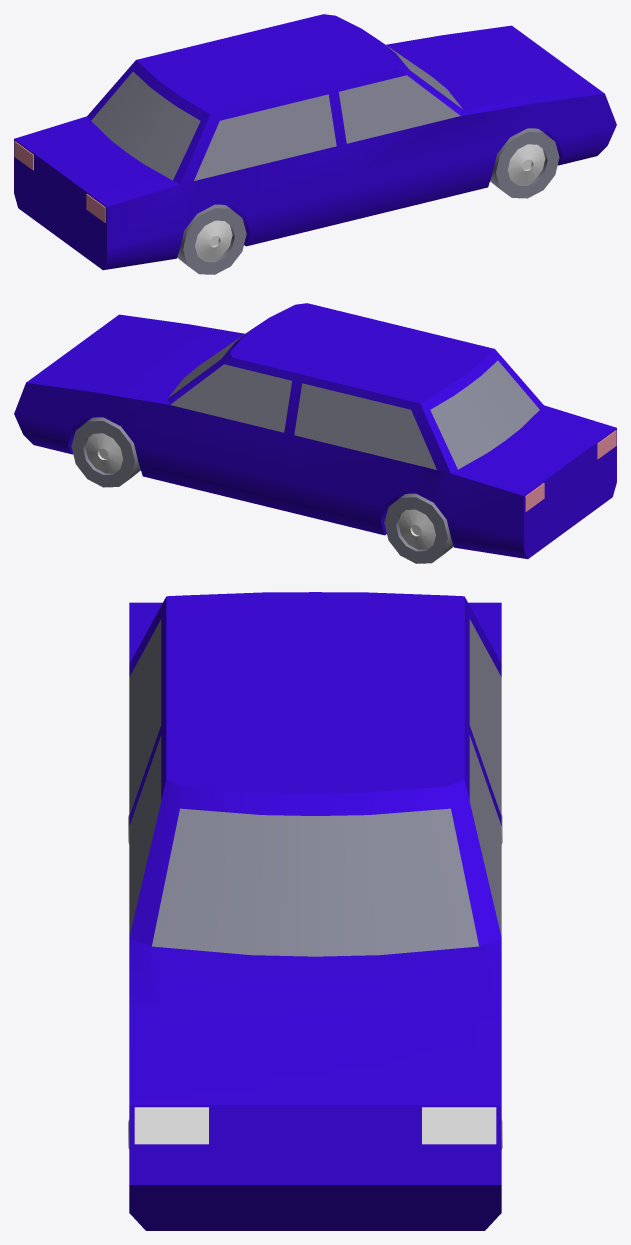
The model's file is LimoBlue.gltf.
3 renders of one model, top to bottom at view 1: azimuth 30°, elevation 25°; view 2: azimuth 150°, elevation 25°; view 3: azimuth 270°, elevation 25°, orthographic. The views are drawn at different scales.
Visible parts, largest first — view 1: Cabin, Windows/Wheels, Wheels, Disk, Red lights; view 2: Cabin, Windows/Wheels, Wheels, Disk, Red lights; view 3: Cabin, Windows/Wheels, Front lights.
Boxes of the visible parts, x1,y1,x2,y2 form: Cabin: (14,14,616,270); Windows/Wheels: (91,44,462,180); Wheels: (177,128,559,274); Disk: (195,144,545,260); Red lights: (14,141,105,222); Cabin: (14,303,616,559); Windows/Wheels: (168,333,539,469); Wheels: (71,417,453,563); Disk: (85,433,435,549); Red lights: (525,430,616,511); Cabin: (129,592,501,1230); Windows/Wheels: (129,619,501,956); Front lights: (134,1107,496,1144).
Size of the model in its own units: 0.0551 by 0.0157 by 0.0175.
